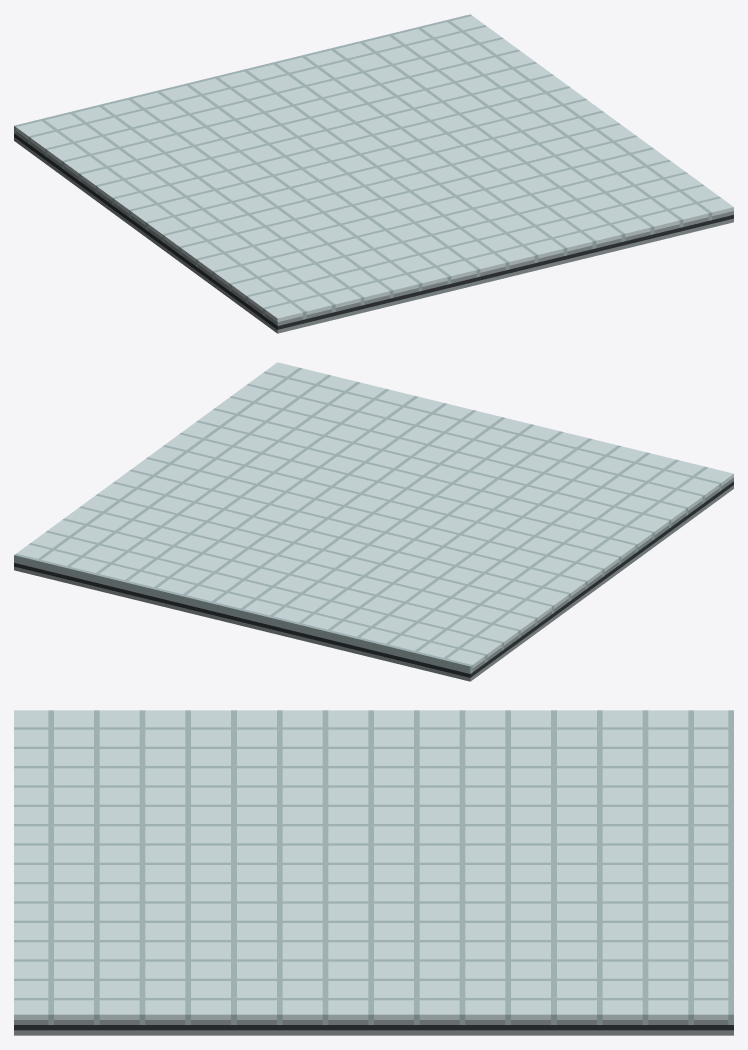
File: floor.obj
3 renders of one model, top to bottom at view 1: azimuth 30°, elevation 25°; view 2: azimuth 150°, elevation 25°; view 3: azimuth 270°, elevation 25°, orthographic. The views are drawn at different scales.
Bounding box in the file's own units: 12.6 × 0.4 × 12.6.
1 material, 1 textured.
